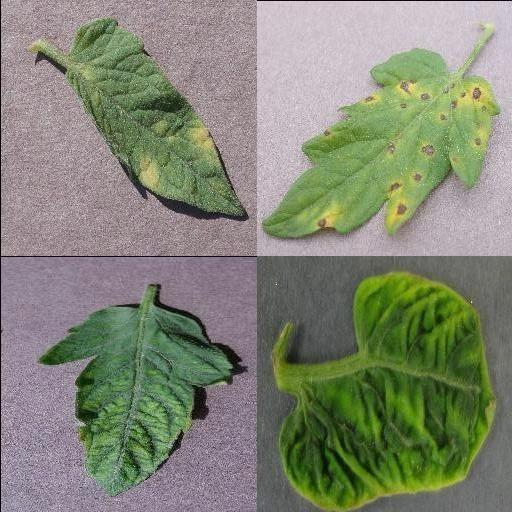Leaf Mold: (64, 17, 246, 217)
Mosaic Virus: (34, 304, 234, 500)
Septoria: (260, 48, 498, 237)
Yellow Leaf Curl Virus: (275, 270, 497, 512)
